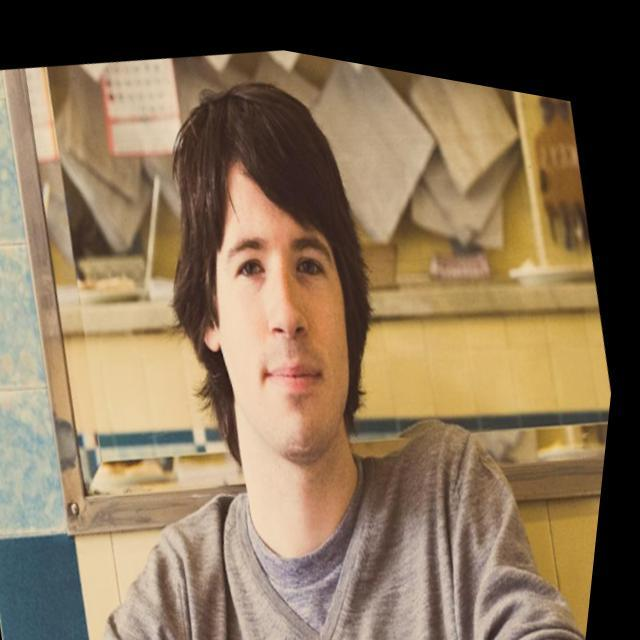Nonhelmet: (166, 79, 377, 467)
